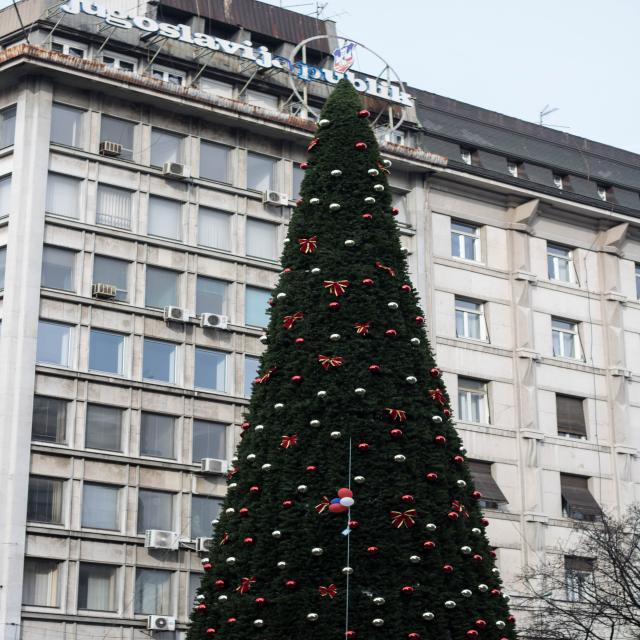Christmas-tree: (190, 73, 526, 640)
